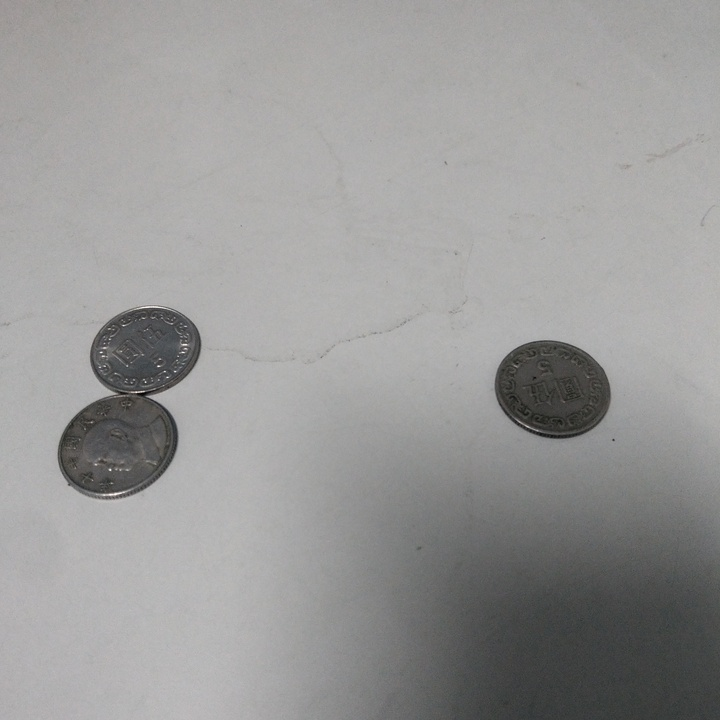5 dollar: (56, 394, 183, 503), (496, 339, 615, 441), (88, 305, 204, 393)
